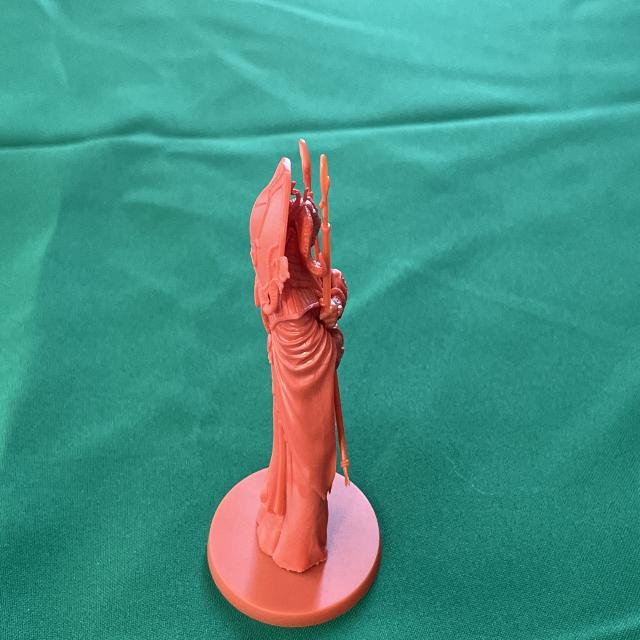amon: (205, 132, 384, 634)
